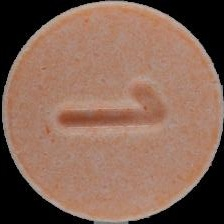61786-629: (0, 0, 224, 224)
